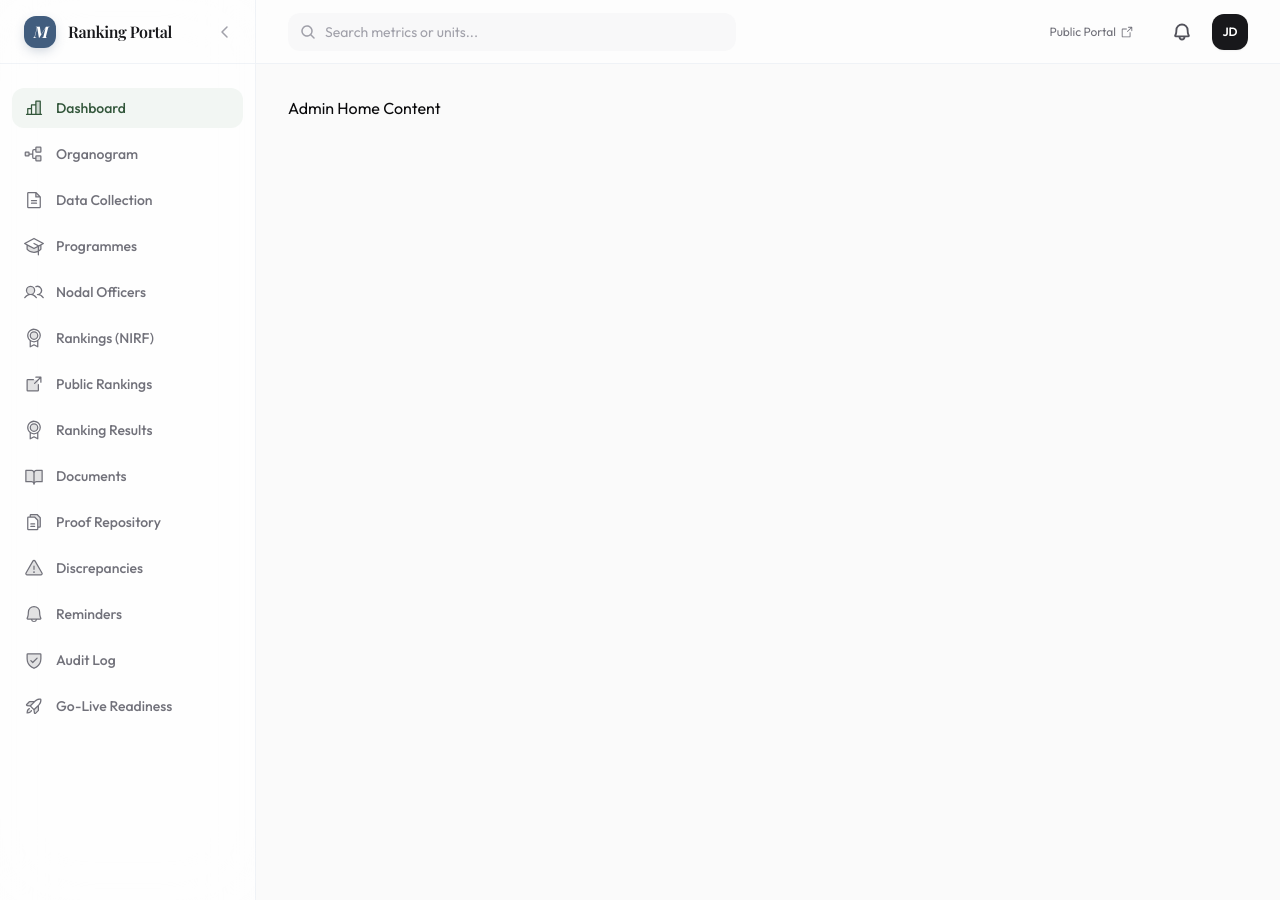
Test: DashboardLayout › shows the signed-in identity and role label
Click the text "JD".
click(1230, 32)  # box [1212, 14, 1248, 50]
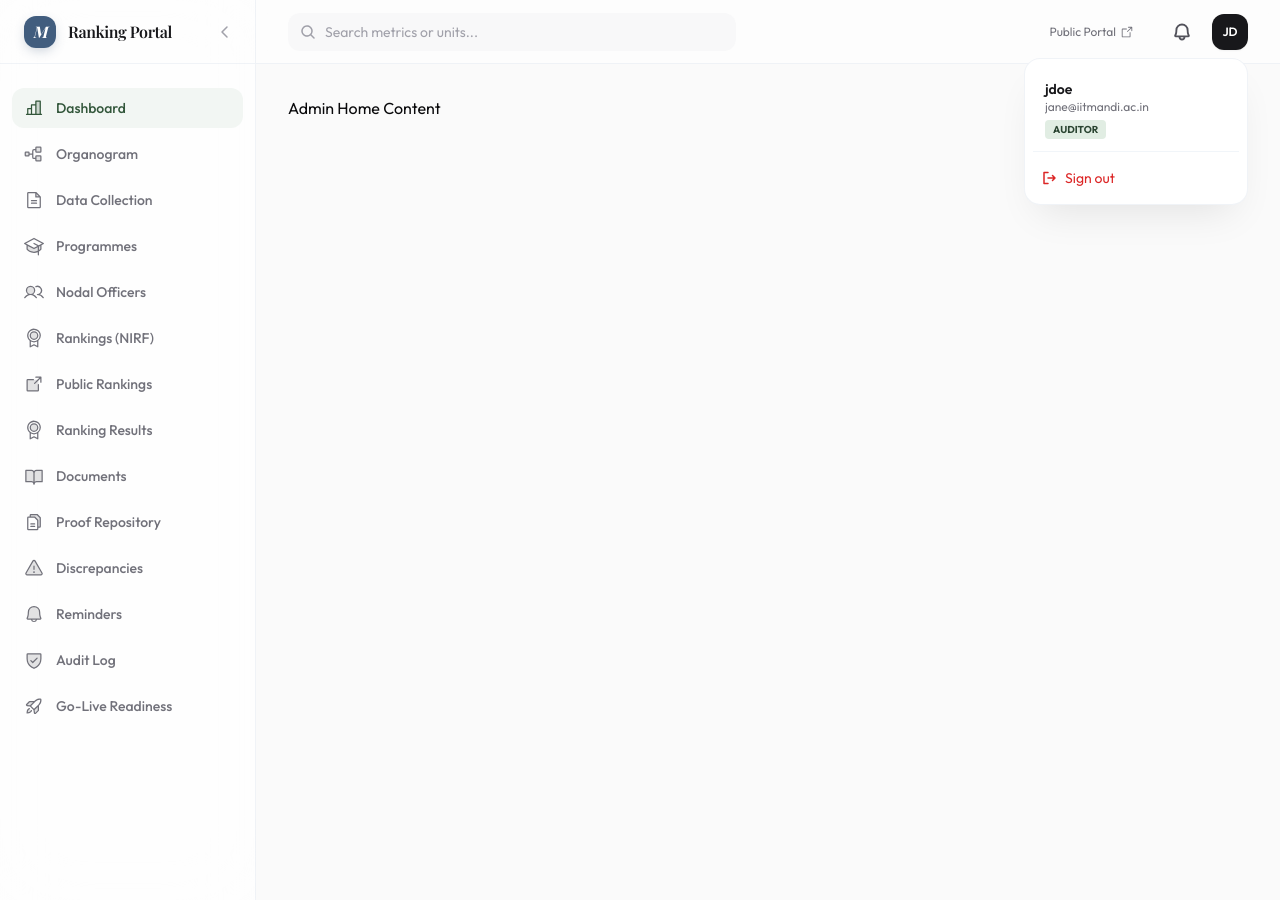
expect the text "jdoe" is shown: met, box [1045, 80, 1072, 98]
expect the text "jane@iitmandi.ac.in" is shown: met, box [1045, 98, 1149, 114]
expect the text "Auditor" is shown: met, box [1045, 120, 1106, 138]
